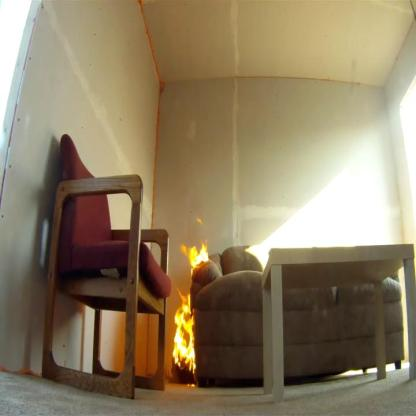fire: (171, 287, 197, 377), (177, 239, 210, 268)
